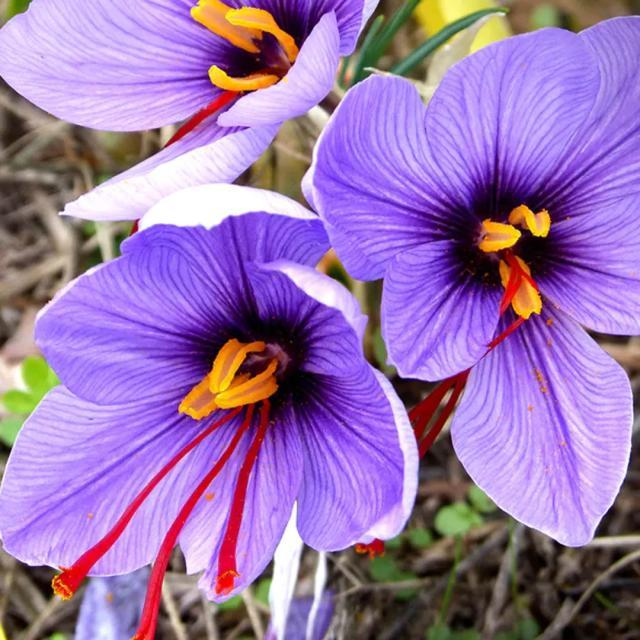Flower: (0, 212, 420, 640), (306, 11, 640, 547), (0, 0, 377, 219)
stigma: (48, 409, 232, 603), (129, 411, 254, 639), (418, 275, 517, 451), (209, 400, 274, 600), (406, 317, 525, 422), (165, 91, 239, 148)
